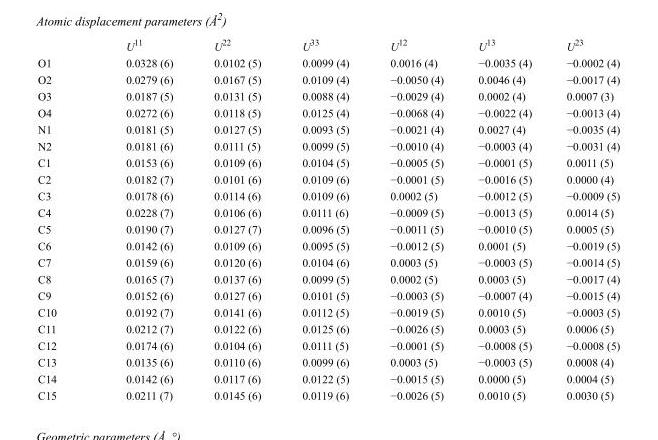table: (37, 36, 619, 401)
table column: (90, 36, 192, 401), (369, 36, 460, 401), (280, 36, 369, 401), (192, 36, 280, 401), (460, 36, 548, 401), (548, 36, 619, 401), (37, 36, 90, 401)
table column header: (37, 36, 619, 54)
table row: (37, 36, 619, 54), (37, 70, 619, 87), (37, 87, 619, 104), (37, 120, 619, 137), (37, 153, 619, 170), (37, 170, 619, 187), (37, 203, 619, 220), (37, 220, 619, 237), (37, 253, 619, 270), (37, 286, 619, 303), (37, 303, 619, 320), (37, 336, 619, 353), (37, 353, 619, 370), (37, 54, 619, 70), (37, 104, 619, 120), (37, 137, 619, 153), (37, 187, 619, 203), (37, 237, 619, 253), (37, 270, 619, 286), (37, 320, 619, 336), (37, 370, 619, 386), (37, 386, 619, 401)
